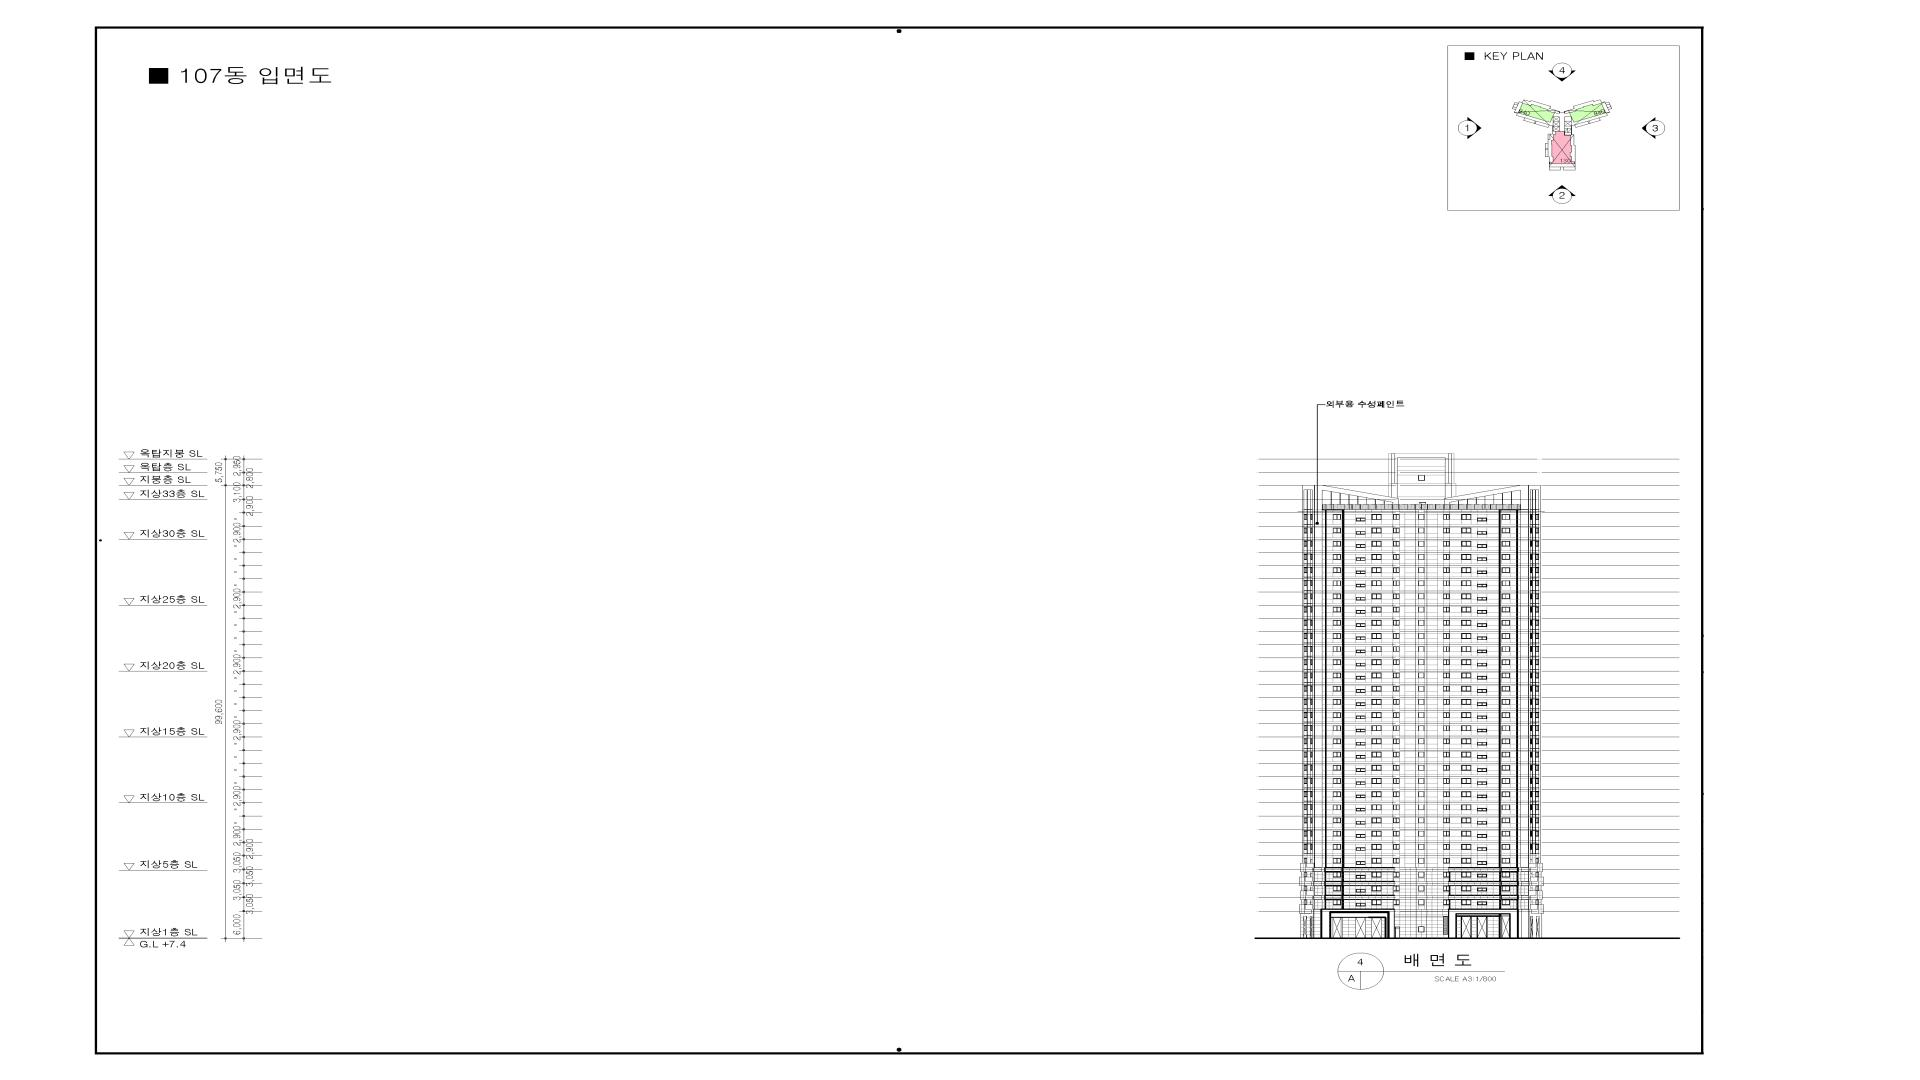door: (1461, 917, 1472, 938), (1477, 917, 1488, 938), (1355, 918, 1366, 938), (1371, 918, 1382, 938), (1501, 916, 1509, 938), (1333, 918, 1341, 938), (1303, 916, 1307, 938), (1530, 916, 1533, 938), (1536, 916, 1539, 938), (1310, 916, 1312, 937)
wall: (1299, 453, 1544, 938)
window: (1443, 916, 1448, 935), (1371, 844, 1382, 850), (1371, 514, 1381, 520), (1371, 541, 1381, 547), (1371, 554, 1381, 560), (1371, 567, 1381, 573), (1461, 686, 1471, 692), (1461, 699, 1471, 705), (1461, 712, 1471, 718), (1461, 738, 1471, 744), (1461, 725, 1471, 731), (1461, 765, 1471, 771), (1461, 778, 1471, 784), (1371, 831, 1381, 837), (1371, 872, 1381, 878), (1461, 872, 1471, 878), (1461, 514, 1471, 520), (1461, 541, 1471, 547), (1461, 554, 1471, 560), (1461, 567, 1471, 573), (1461, 607, 1471, 613), (1461, 620, 1471, 626), (1461, 633, 1471, 639), (1461, 646, 1471, 652), (1461, 659, 1471, 665), (1461, 791, 1471, 797), (1461, 817, 1471, 823), (1461, 831, 1471, 837), (1461, 844, 1471, 850), (1461, 858, 1471, 864), (1371, 593, 1381, 599), (1371, 607, 1381, 613), (1371, 620, 1381, 626), (1371, 633, 1381, 639), (1371, 646, 1381, 652), (1371, 659, 1381, 665), (1371, 672, 1381, 678), (1371, 686, 1381, 692), (1371, 699, 1381, 705), (1371, 712, 1381, 718), (1371, 725, 1381, 731), (1371, 738, 1381, 744), (1371, 765, 1381, 771), (1371, 778, 1381, 784), (1371, 791, 1381, 797), (1371, 817, 1381, 823), (1371, 858, 1381, 864), (1371, 528, 1381, 533), (1461, 673, 1471, 678), (1461, 752, 1471, 757), (1371, 581, 1381, 586), (1371, 752, 1381, 757), (1371, 886, 1381, 891), (1371, 900, 1381, 905), (1461, 886, 1471, 891), (1461, 900, 1471, 905), (1461, 528, 1471, 533), (1461, 581, 1471, 586), (1461, 594, 1471, 599), (1461, 805, 1471, 810), (1371, 805, 1381, 810), (1502, 699, 1510, 705), (1502, 712, 1510, 718), (1502, 778, 1510, 784), (1502, 844, 1510, 850), (1333, 844, 1341, 850), (1333, 778, 1341, 784), (1333, 712, 1341, 718), (1333, 699, 1341, 705), (1333, 633, 1341, 639), (1333, 554, 1341, 560), (1333, 514, 1341, 520), (1502, 514, 1510, 520), (1502, 554, 1510, 560), (1502, 633, 1510, 639), (1443, 858, 1450, 864), (1443, 844, 1450, 850), (1443, 778, 1450, 784), (1443, 765, 1450, 771), (1443, 712, 1450, 718), (1443, 699, 1450, 705), (1443, 659, 1450, 665), (1443, 646, 1450, 652), (1443, 633, 1450, 639), (1443, 620, 1450, 626), (1443, 567, 1450, 573), (1443, 554, 1450, 560), (1443, 541, 1450, 547), (1443, 514, 1450, 520), (1477, 755, 1487, 759), (1502, 686, 1510, 691), (1502, 726, 1510, 731), (1502, 739, 1510, 744), (1502, 752, 1510, 757), (1502, 765, 1510, 770), (1502, 792, 1510, 797), (1502, 805, 1510, 810), (1502, 818, 1510, 823), (1502, 831, 1510, 836), (1502, 858, 1510, 863), (1502, 872, 1510, 877), (1502, 886, 1510, 891), (1502, 900, 1510, 905), (1333, 818, 1341, 823), (1333, 831, 1341, 836), (1333, 858, 1341, 863), (1333, 872, 1341, 877), (1333, 886, 1341, 891), (1333, 900, 1341, 905), (1333, 805, 1341, 810), (1333, 792, 1341, 797), (1333, 765, 1341, 770), (1333, 752, 1341, 757), (1333, 739, 1341, 744), (1333, 726, 1341, 731), (1333, 686, 1341, 691), (1333, 673, 1341, 678), (1333, 660, 1341, 665), (1333, 647, 1341, 652), (1333, 620, 1341, 625), (1333, 607, 1341, 612), (1333, 594, 1341, 599), (1333, 581, 1341, 586), (1333, 568, 1341, 573), (1333, 541, 1341, 546), (1333, 528, 1341, 533), (1477, 874, 1487, 878), (1477, 901, 1487, 905), (1477, 861, 1487, 865), (1477, 847, 1487, 851), (1477, 834, 1487, 838), (1477, 821, 1487, 825), (1477, 781, 1487, 785), (1477, 768, 1487, 772), (1477, 702, 1487, 706), (1477, 689, 1487, 693), (1477, 676, 1487, 680), (1477, 623, 1487, 627), (1477, 610, 1487, 614), (1477, 597, 1487, 601), (1477, 557, 1487, 561), (1477, 544, 1487, 548), (1477, 531, 1487, 535), (1502, 528, 1510, 533), (1502, 541, 1510, 546), (1502, 568, 1510, 573), (1502, 581, 1510, 586), (1502, 594, 1510, 599), (1502, 607, 1510, 612), (1502, 620, 1510, 625), (1502, 647, 1510, 652), (1502, 660, 1510, 665), (1502, 673, 1510, 678), (1356, 531, 1365, 535), (1356, 544, 1365, 548), (1356, 557, 1365, 561), (1393, 514, 1399, 520), (1393, 554, 1399, 560), (1393, 633, 1399, 639), (1393, 659, 1399, 665), (1393, 699, 1399, 705), (1393, 778, 1399, 784), (1393, 844, 1399, 850), (1418, 712, 1424, 718), (1356, 610, 1365, 614), (1356, 623, 1365, 627), (1356, 676, 1365, 680), (1356, 689, 1365, 693), (1356, 702, 1365, 706), (1356, 742, 1365, 746), (1356, 755, 1365, 759), (1356, 768, 1365, 772), (1356, 821, 1365, 825), (1356, 834, 1365, 838), (1356, 861, 1365, 865), (1356, 875, 1365, 879), (1356, 889, 1365, 893), (1443, 899, 1449, 905), (1418, 899, 1424, 905), (1418, 872, 1424, 878), (1418, 858, 1424, 864), (1418, 844, 1424, 850), (1418, 778, 1424, 784), (1418, 765, 1424, 771), (1418, 699, 1424, 705), (1418, 659, 1424, 665), (1418, 633, 1424, 639), (1418, 620, 1424, 626), (1418, 567, 1424, 573), (1418, 554, 1424, 560), (1418, 541, 1424, 547), (1418, 514, 1424, 520), (1356, 847, 1365, 851), (1443, 831, 1450, 836), (1443, 818, 1450, 823), (1443, 805, 1450, 810), (1443, 792, 1450, 797), (1443, 752, 1450, 757), (1443, 739, 1450, 744), (1443, 726, 1450, 731), (1443, 686, 1450, 691), (1443, 673, 1450, 678), (1443, 607, 1450, 612), (1443, 594, 1450, 599), (1443, 581, 1450, 586), (1443, 528, 1450, 533), (1393, 858, 1399, 863), (1393, 528, 1399, 533), (1393, 541, 1399, 546), (1393, 568, 1399, 573), (1393, 581, 1399, 586), (1393, 594, 1399, 599), (1393, 607, 1399, 612), (1393, 620, 1399, 625), (1393, 647, 1399, 652), (1393, 673, 1399, 678), (1393, 686, 1399, 691), (1393, 713, 1399, 718), (1393, 726, 1399, 731), (1393, 739, 1399, 744), (1393, 752, 1399, 757), (1393, 765, 1399, 770), (1393, 792, 1399, 797), (1393, 805, 1399, 810), (1393, 818, 1399, 823), (1393, 831, 1399, 836), (1418, 726, 1424, 731), (1477, 742, 1487, 745), (1477, 729, 1487, 732), (1477, 716, 1487, 719), (1394, 899, 1399, 905), (1477, 888, 1487, 891), (1443, 872, 1449, 877), (1443, 886, 1449, 891), (1418, 927, 1424, 932), (1418, 886, 1424, 891), (1418, 831, 1424, 836), (1418, 818, 1424, 823), (1418, 805, 1424, 810), (1418, 792, 1424, 797), (1418, 752, 1424, 757), (1418, 739, 1424, 744), (1418, 686, 1424, 691), (1418, 673, 1424, 678), (1418, 647, 1424, 652), (1418, 607, 1424, 612), (1418, 594, 1424, 599), (1418, 581, 1424, 586), (1418, 528, 1424, 533), (1477, 808, 1487, 811), (1477, 795, 1487, 798), (1477, 663, 1487, 666), (1477, 650, 1487, 653), (1477, 637, 1487, 640), (1477, 584, 1487, 587), (1477, 571, 1487, 574), (1477, 518, 1487, 521), (1356, 518, 1365, 521), (1356, 571, 1365, 574), (1356, 584, 1365, 587), (1356, 597, 1365, 600), (1356, 637, 1365, 640), (1356, 650, 1365, 653), (1356, 663, 1365, 666), (1356, 716, 1365, 719), (1356, 729, 1365, 732), (1356, 782, 1365, 785), (1356, 795, 1365, 798), (1356, 808, 1365, 811), (1356, 903, 1365, 906), (1394, 872, 1399, 877), (1394, 886, 1399, 891), (1535, 567, 1539, 573), (1304, 830, 1307, 837), (1304, 685, 1307, 692), (1536, 606, 1539, 613), (1536, 830, 1539, 837), (1535, 528, 1539, 533), (1304, 646, 1307, 652), (1304, 633, 1307, 639), (1304, 844, 1307, 850), (1304, 817, 1307, 823), (1304, 804, 1307, 810), (1304, 791, 1307, 797), (1304, 778, 1307, 784), (1304, 765, 1307, 771), (1304, 752, 1307, 758), (1304, 738, 1307, 744), (1304, 712, 1307, 718), (1304, 699, 1307, 705), (1304, 659, 1307, 665), (1304, 620, 1307, 626), (1304, 606, 1307, 612), (1304, 580, 1307, 586), (1304, 567, 1307, 573), (1304, 554, 1307, 560), (1304, 541, 1307, 547), (1304, 514, 1307, 520), (1536, 514, 1539, 520), (1536, 541, 1539, 547), (1536, 554, 1539, 560), (1536, 580, 1539, 586), (1536, 593, 1539, 599), (1536, 620, 1539, 626), (1536, 633, 1539, 639), (1536, 686, 1539, 692), (1536, 659, 1539, 665), (1536, 646, 1539, 652), (1536, 699, 1539, 705), (1536, 712, 1539, 718), (1536, 725, 1539, 731), (1536, 738, 1539, 744), (1536, 765, 1539, 771), (1536, 778, 1539, 784), (1536, 791, 1539, 797), (1536, 804, 1539, 810), (1536, 844, 1539, 850), (1304, 725, 1307, 731), (1304, 858, 1307, 863), (1304, 594, 1307, 599), (1304, 528, 1307, 533), (1536, 673, 1539, 678), (1536, 752, 1539, 757), (1536, 818, 1539, 823), (1304, 900, 1307, 905), (1304, 886, 1307, 891), (1304, 872, 1307, 877), (1304, 673, 1307, 678), (1536, 858, 1538, 863), (1536, 872, 1538, 877), (1536, 886, 1538, 891), (1536, 900, 1538, 905)
